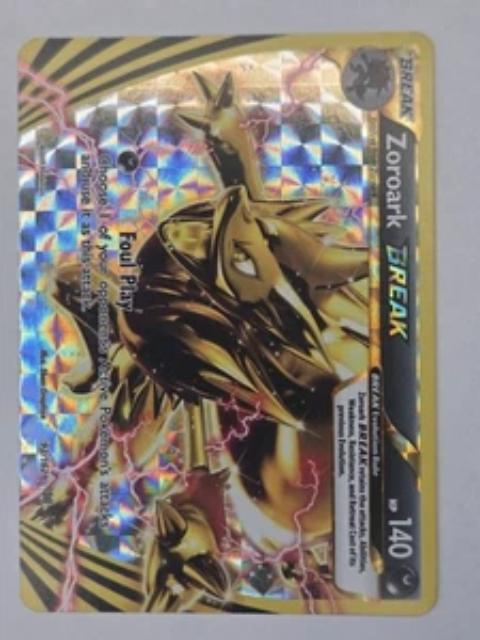Card: (12, 26, 442, 620)
Name: (381, 119, 418, 353)
